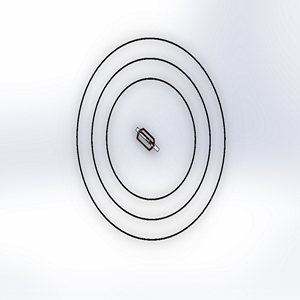circle: (67, 33, 230, 248)
submarine: (124, 122, 163, 160)
